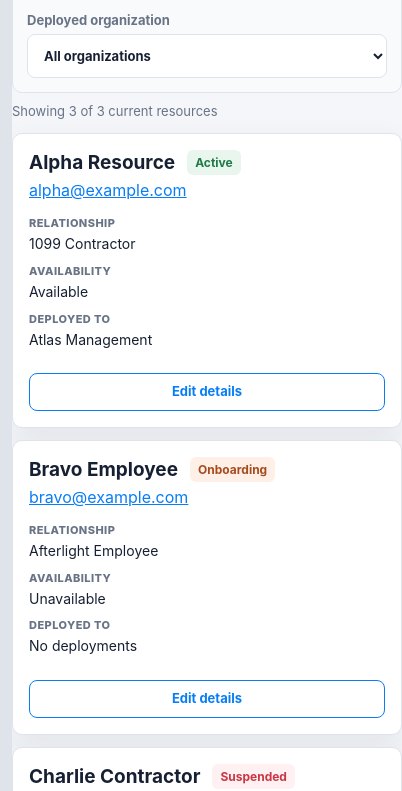
Test: resource profiles are compact by default and expose the editor on demand
(page scrolled)
Expected: the text "Atlas Management" is shown, top-left (29, 331), bottom-right (152, 348)
Click the button "Edit details" below "alpha@example.com": (207, 392) top-left (29, 373), bottom-right (385, 411)
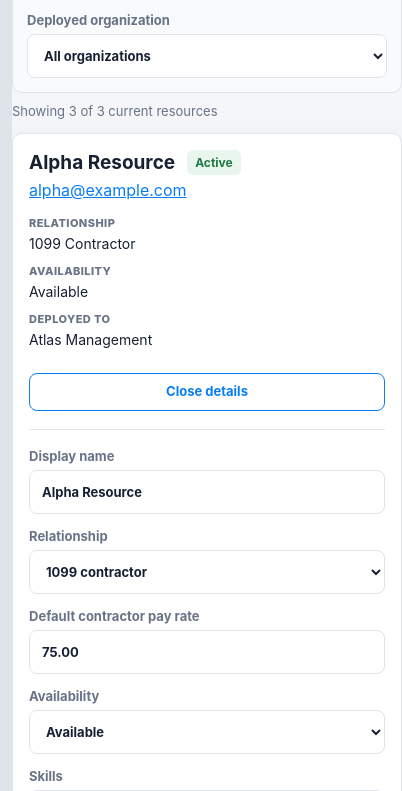
Now the field showing "Alpha Resource" is shown, box top-left (29, 470), bottom-right (385, 514)
Now the button "Close details" is expanded, box top-left (29, 373), bottom-right (385, 411)
